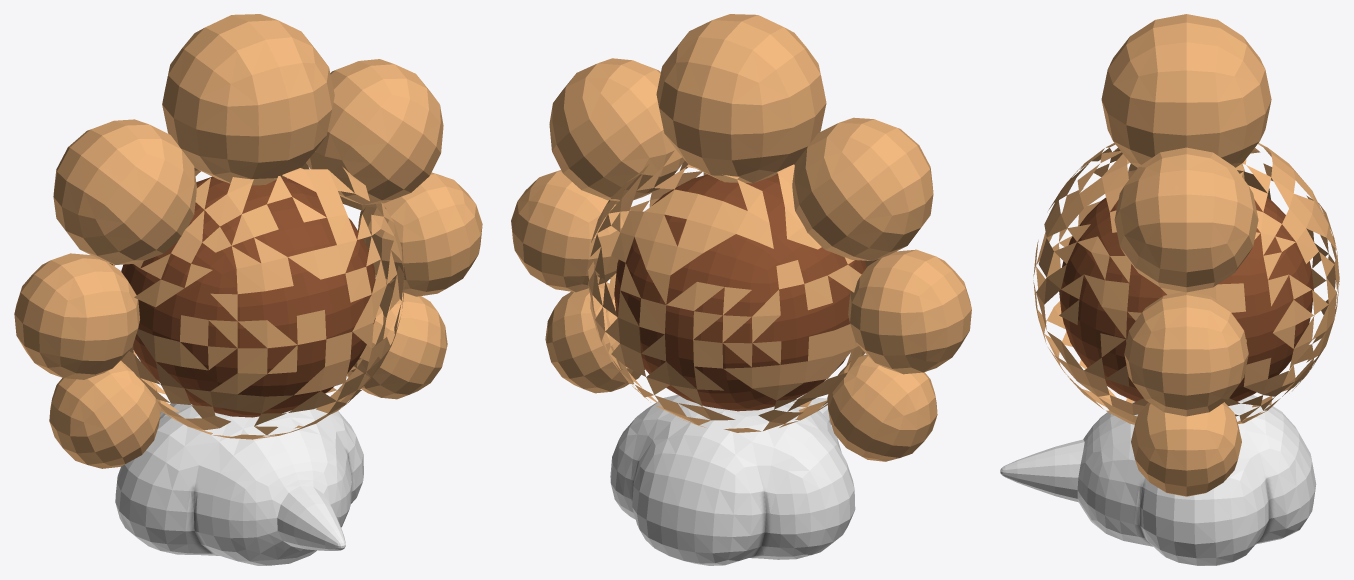
Rendered from XY_CastformSunny.fbx.
3 renders of one model, left to right at view 1: azimuth 30°, elevation 25°; view 2: azimuth 150°, elevation 25°; view 3: azimuth 270°, elevation 25°, orthographic.
Visible parts, largest first — view 1: CastformSunny; view 2: CastformSunny; view 3: CastformSunny.
Part boxes in pixels (x1,y1,x2,y2): CastformSunny: (14, 14, 482, 565); CastformSunny: (511, 14, 971, 565); CastformSunny: (1000, 14, 1339, 565).
Size of the model in its own units: 38.72 by 42.84 by 25.63.
Materials: 4 (4 with a texture image).
